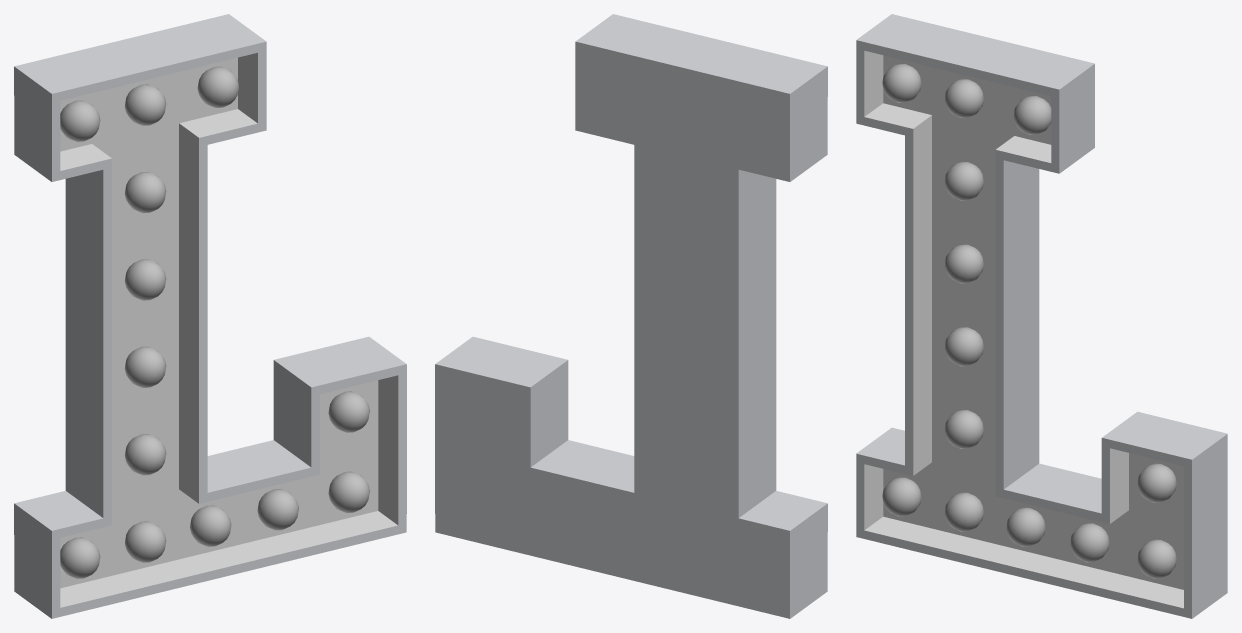
Rendered from LettersBulb01_L.FBX.
3 views of the same model, side by side, from view 1: azimuth 30°, elevation 25°; view 2: azimuth 150°, elevation 25°; view 3: azimuth 330°, elevation 25° (orthographic). The views are drawn at different scales.
Visible parts, largest first — view 1: LettersBulb01_L; view 2: LettersBulb01_L; view 3: LettersBulb01_L.
Boxes of the visible parts, bbox=[...] form: LettersBulb01_L: bbox=[14, 14, 406, 618]; LettersBulb01_L: bbox=[435, 14, 827, 618]; LettersBulb01_L: bbox=[856, 14, 1227, 618].
Size of what is drawn, in the model's own units: 0.8458 by 1.2 by 0.1563.
